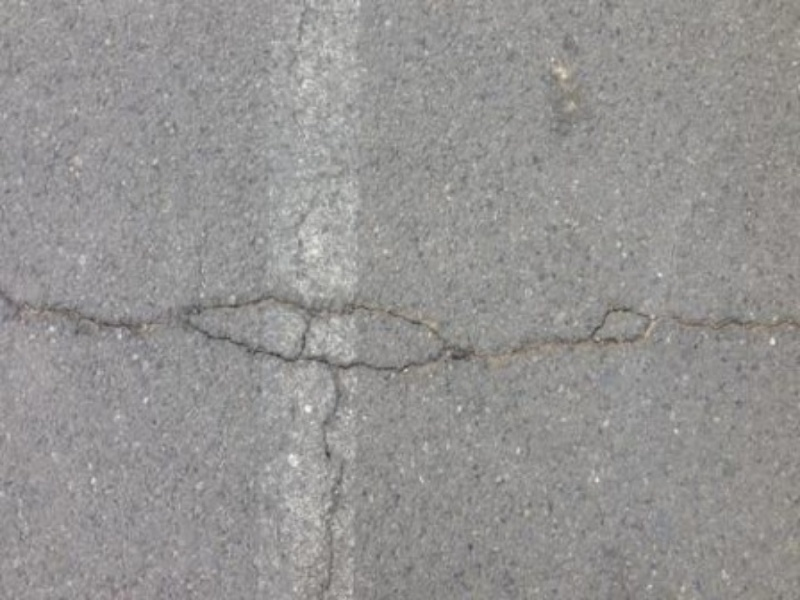crack: (6, 258, 800, 366), (184, 315, 350, 593)
